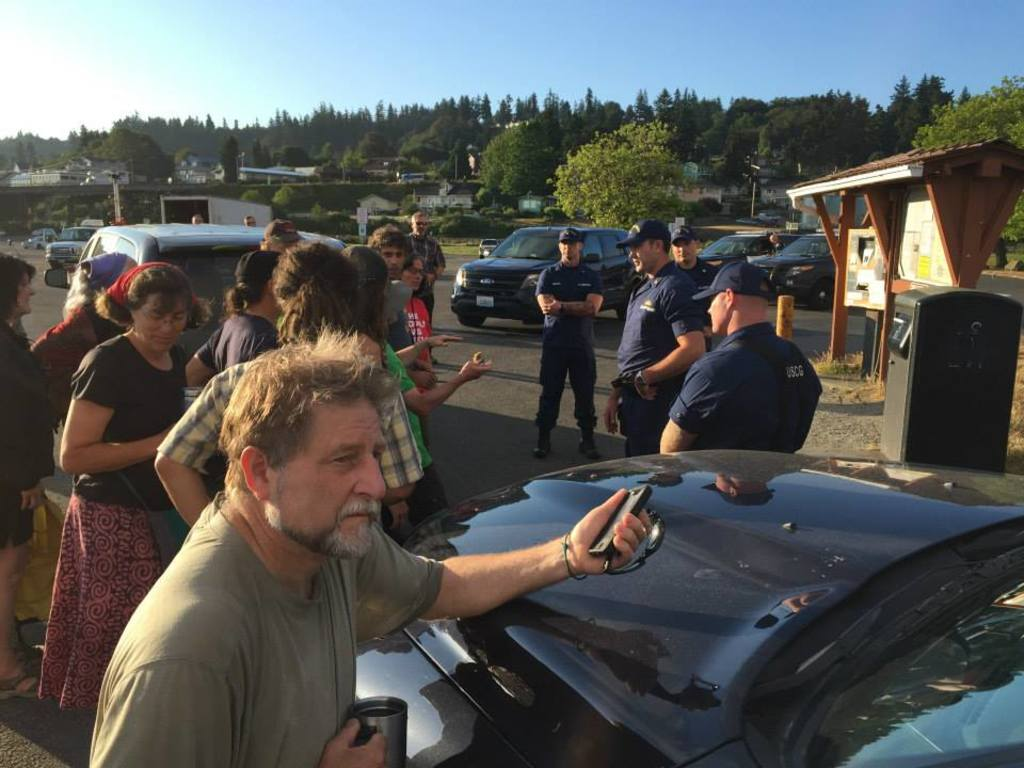Car: (355, 438, 1022, 766), (60, 216, 362, 364), (450, 222, 646, 323), (744, 230, 838, 313), (689, 221, 774, 274), (44, 221, 96, 282)
